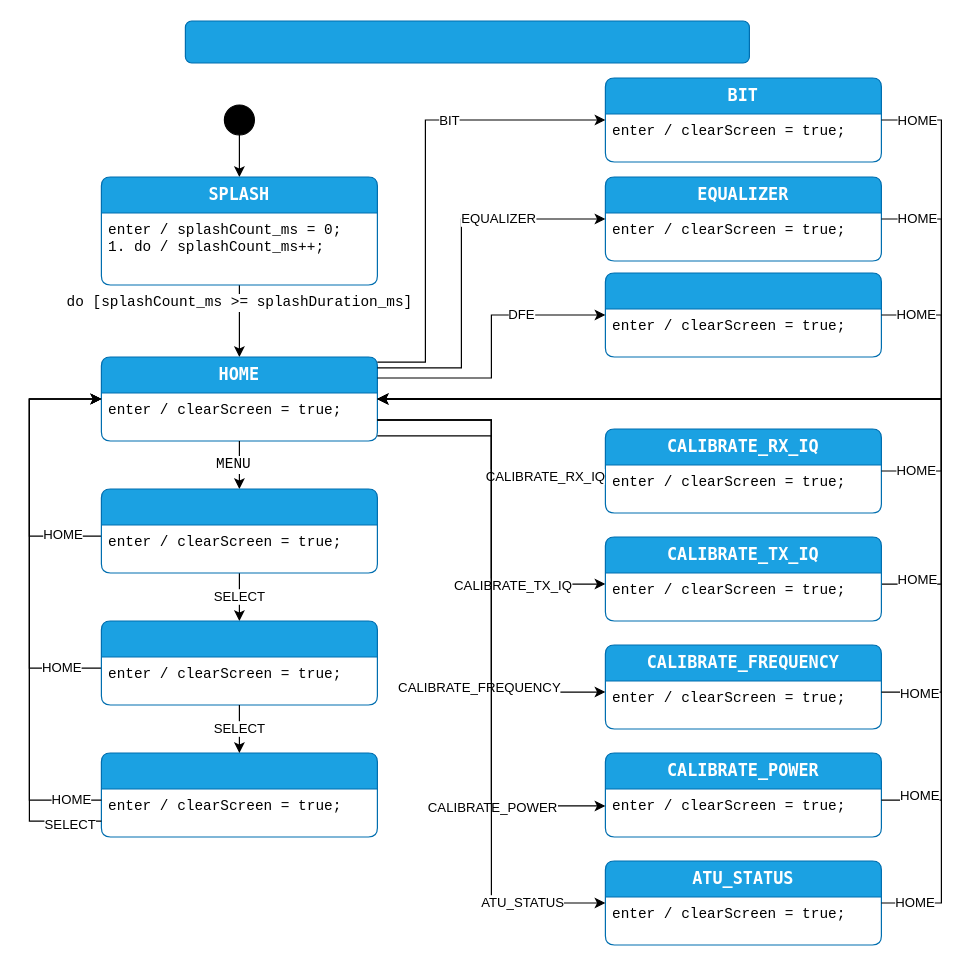
The diagram is 972 pixels wide and 966 high, and some of its shapes have lost their labels. Here are the shapes that lost their labels. From the top down, the box of each, then its label:
(184, 20, 749, 63): $STATEMACHINE : UISm
(604, 272, 881, 357): FREQ_ENTRY
(100, 488, 377, 573): MAIN_MENU
(100, 620, 377, 705): SECONDARY_MENU
(100, 752, 377, 837): UPDATE
